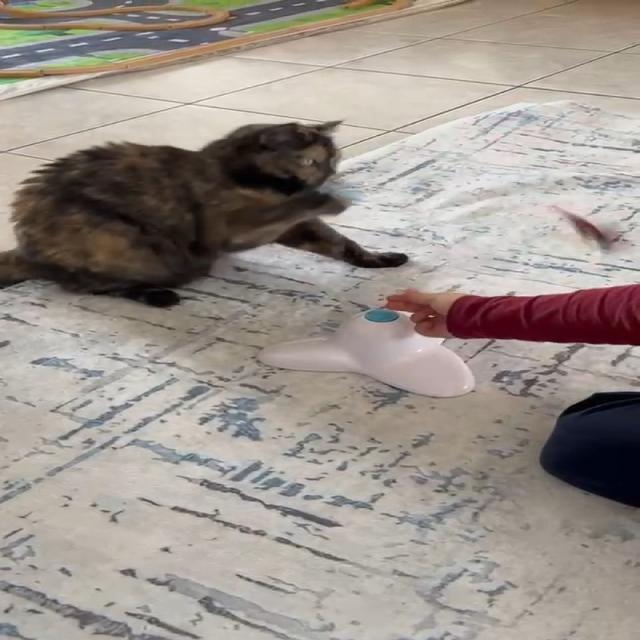authorized: (0, 118, 408, 308)
